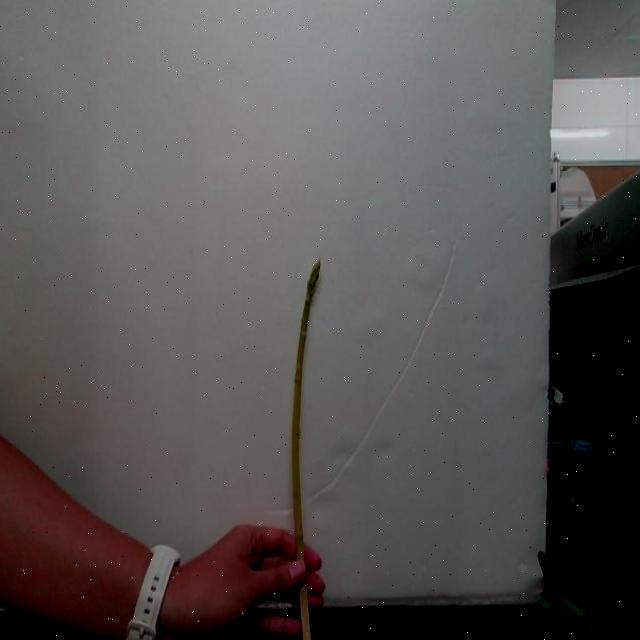aspargus: (289, 263, 322, 640)
